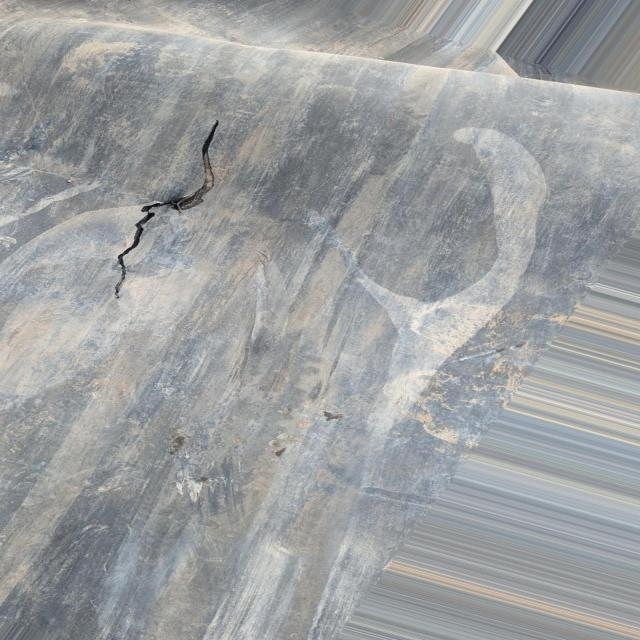Tear: (114, 118, 232, 294)
